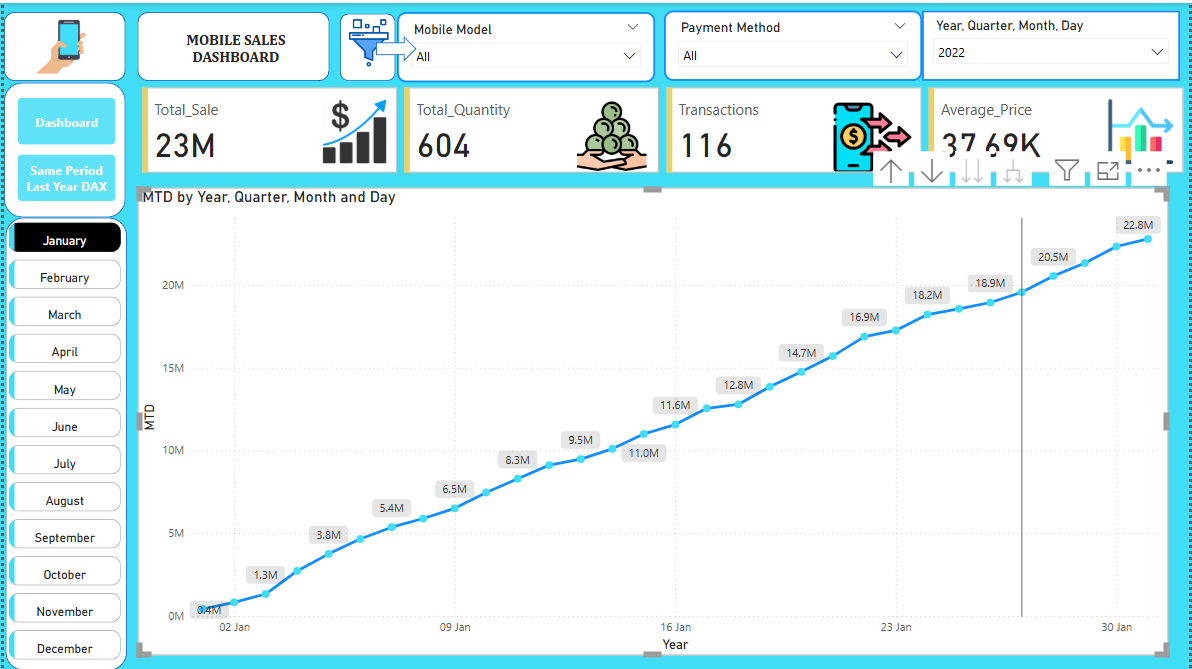

The page's visual inventory and layout, read from the dashboard file:
{"tool":"powerbi","page":{"name":"report by MTD","canvas":[1280,720],"ordinal":1},"visuals":[{"type":"shape","box":[0,9.7,131.2,74.5],"z":0},{"type":"shape","box":[0,85.8,131.2,145.7],"z":1000},{"type":"shape","box":[1.6,231.5,131.2,489],"z":2000},{"type":"advancedSlicerVisual","fields":{"Values":["Cutom_Calender.Date.Variation.Date Hierarchy.Month"]},"box":[0,231.5,131.2,489],"z":3000},{"type":"cardVisual","fields":{"Data":["Sales_Data.Total_Sale","Sales_Data.Total_Quantity","Sales_Data.Transactions","Sales_Data.Average_Price"]},"box":[144.1,85.8,1136.7,102],"z":4000},{"type":"slicer","fields":{"Values":["Sales_Data.Mobile Model"]},"box":[424.2,9.7,278.5,76.1],"z":5000},{"type":"slicer","fields":{"Values":["Sales_Data.Payment Method"]},"box":[712.5,8.1,278.5,76.1],"z":6000},{"type":"slicer","fields":{"Values":["Cutom_Calender.Date.Variation.Date Hierarchy.Year","Cutom_Calender.Date.Variation.Date Hierarchy.Quarter","Cutom_Calender.Date.Variation.Date Hierarchy.Month","Cutom_Calender.Date.Variation.Date Hierarchy.Day"]},"box":[991,8.1,278.5,76.1],"z":7000},{"type":"shape","box":[144.1,9.7,207.3,74.5],"z":8000},{"type":"shape","box":[362.7,11.3,59.9,72.9],"z":9000},{"type":"textbox","box":[161.9,24.3,176.5,50.2],"z":10000},{"type":"image","box":[268.8,11.3,249.4,63.1],"z":11000},{"type":"shape","box":[401.6,35.6,43.7,27.5],"z":12000},{"type":"image","box":[1.6,13,118.2,74.5],"z":13000},{"type":"lineChart","fields":{"Y":["Sales_Data.MTD"],"Category":["Cutom_Calender.Date.Variation.Date Hierarchy.Year","Cutom_Calender.Date.Variation.Date Hierarchy.Quarter","Cutom_Calender.Date.Variation.Date Hierarchy.Month","Cutom_Calender.Date.Variation.Date Hierarchy.Day"]},"box":[144.1,199.2,1112.4,505.2],"z":14000},{"type":"pageNavigator","box":[14.6,102,106.9,113.3],"z":15000}]}

Visuals, with their boxes on the page's 1280x720 design canvas (x1, y1, x2, y2). These are canvas units, not pixel positions in the 1192x669 screenshot, which may show the page scaled, cropped or inside an application window:
shape: [x1=0, y1=10, x2=131, y2=84]
shape: [x1=0, y1=86, x2=131, y2=232]
shape: [x1=2, y1=232, x2=133, y2=720]
advancedSlicerVisual - Cutom_Calender.Date.Variation.Date Hierarchy.Month: [x1=0, y1=232, x2=131, y2=720]
cardVisual - Sales_Data.Total_Sale x Sales_Data.Total_Quantity: [x1=144, y1=86, x2=1281, y2=188]
slicer - Sales_Data.Mobile Model: [x1=424, y1=10, x2=703, y2=86]
slicer - Sales_Data.Payment Method: [x1=712, y1=8, x2=991, y2=84]
slicer - Cutom_Calender.Date.Variation.Date Hierarchy.Year x Cutom_Calender.Date.Variation.Date Hierarchy.Quarter: [x1=991, y1=8, x2=1270, y2=84]
shape: [x1=144, y1=10, x2=351, y2=84]
shape: [x1=363, y1=11, x2=423, y2=84]
textbox: [x1=162, y1=24, x2=338, y2=74]
image: [x1=269, y1=11, x2=518, y2=74]
shape: [x1=402, y1=36, x2=445, y2=63]
image: [x1=2, y1=13, x2=120, y2=88]
lineChart - Sales_Data.MTD x Cutom_Calender.Date.Variation.Date Hierarchy.Year: [x1=144, y1=199, x2=1256, y2=704]
pageNavigator: [x1=15, y1=102, x2=122, y2=215]
